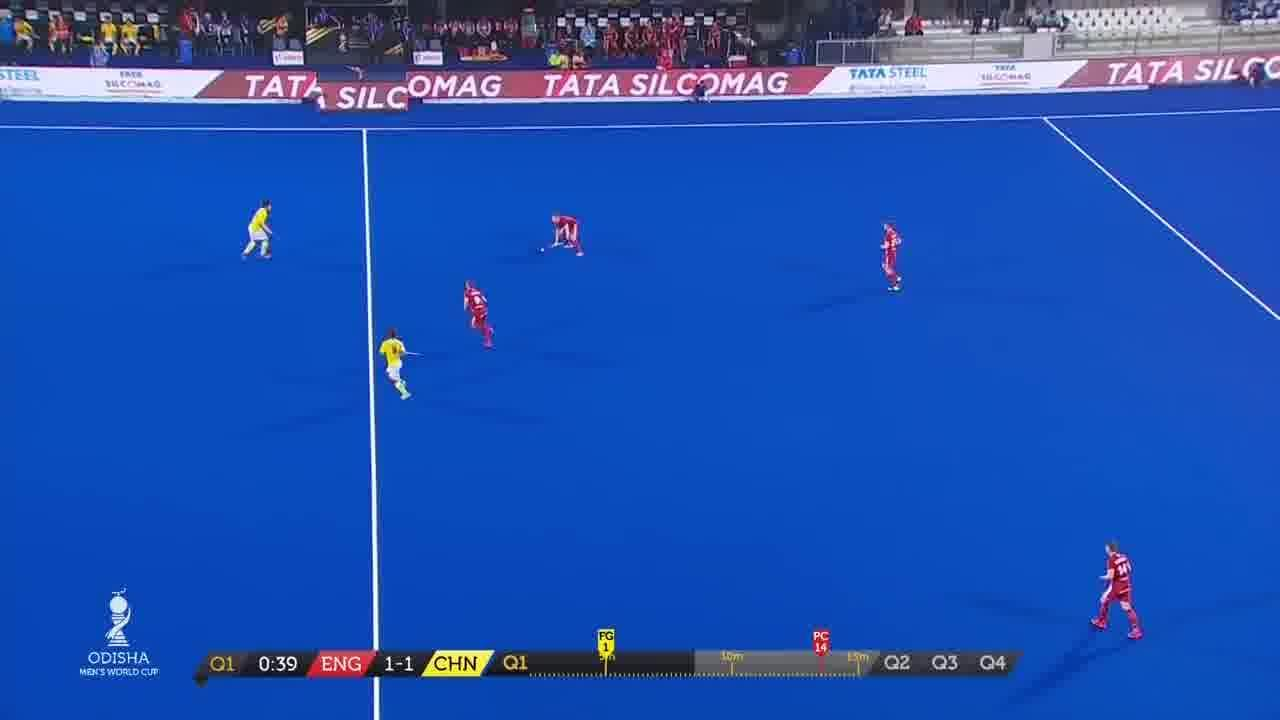ball: (539, 242, 550, 252)
